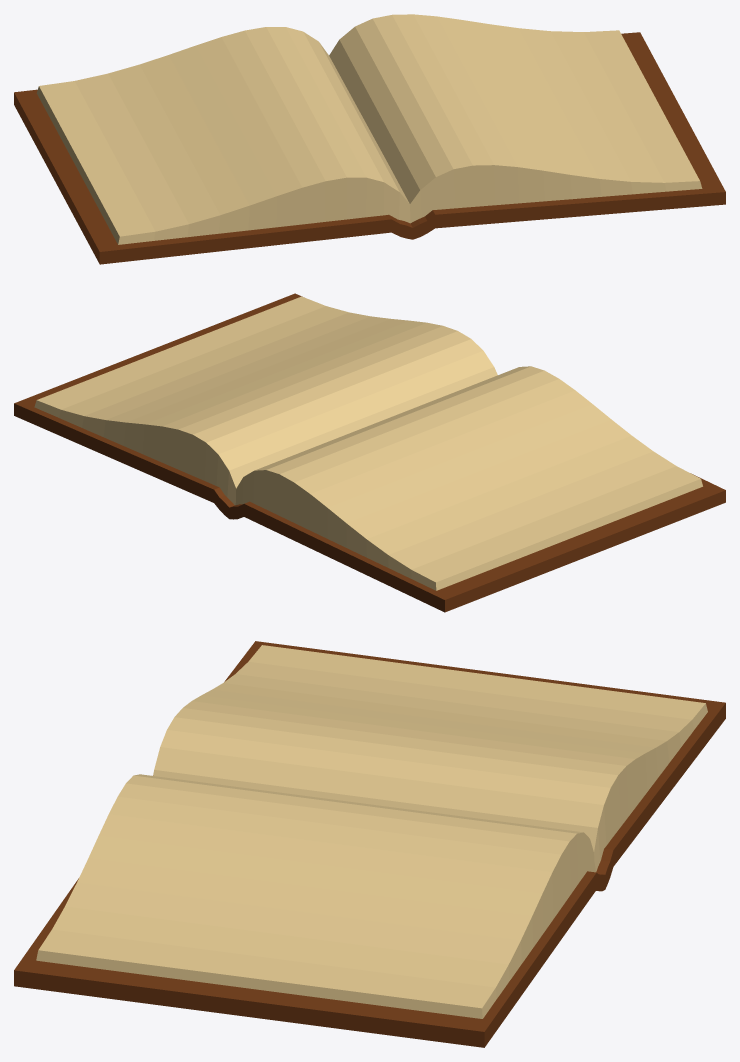
Rendered from Open_Book_Cover.fbx.
3 renders of one model, top to bottom at view 1: azimuth 30°, elevation 25°; view 2: azimuth 150°, elevation 25°; view 3: azimuth 270°, elevation 25°, orthographic. The views are drawn at different scales.
Parts seen in each view (by area): view 1: Open Book Cover; view 2: Open Book Cover; view 3: Open Book Cover.
Boxes of the visible parts, box(x1,y1,x2,y2) form: Open Book Cover: box(14, 14, 725, 264); Open Book Cover: box(14, 293, 725, 612); Open Book Cover: box(14, 641, 725, 1047).
Bounding box in the file's own units: 72.51 × 6.92 × 55.82.
